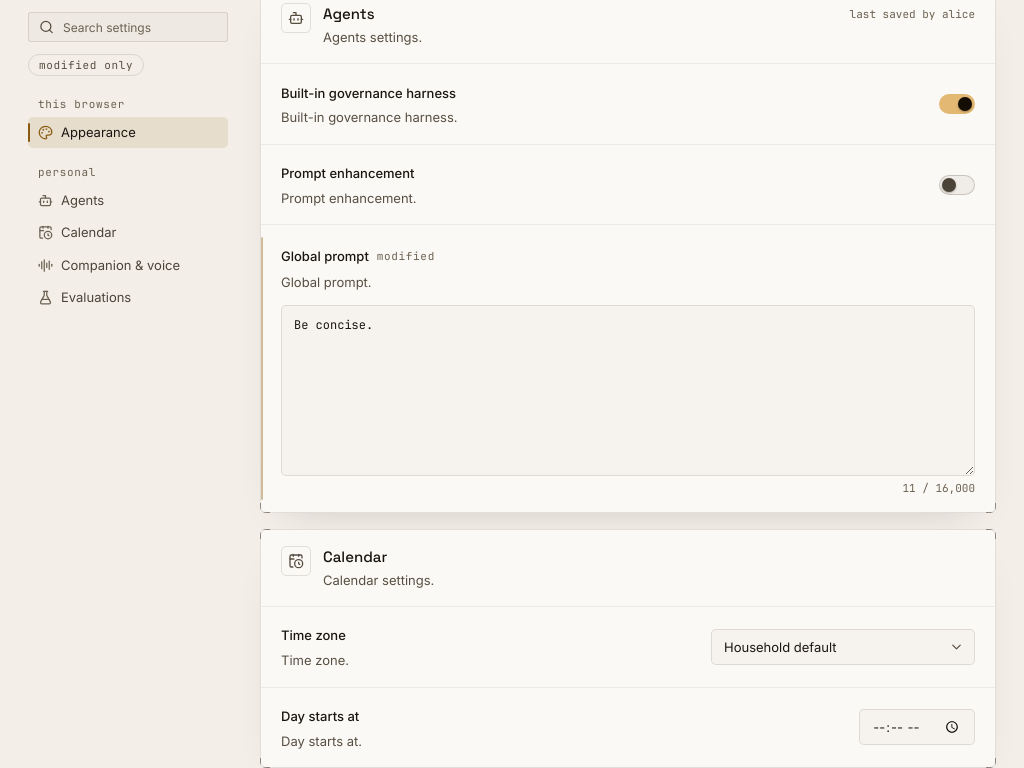
it: Settings editing › drops a change that is reverted by hand
The width and height of the screenshot is (1024, 768).
(page scrolled)
Replace the text in the text box labelled "Global prompt" with "Other.". click: (628, 390)
box: [281, 305, 975, 476]
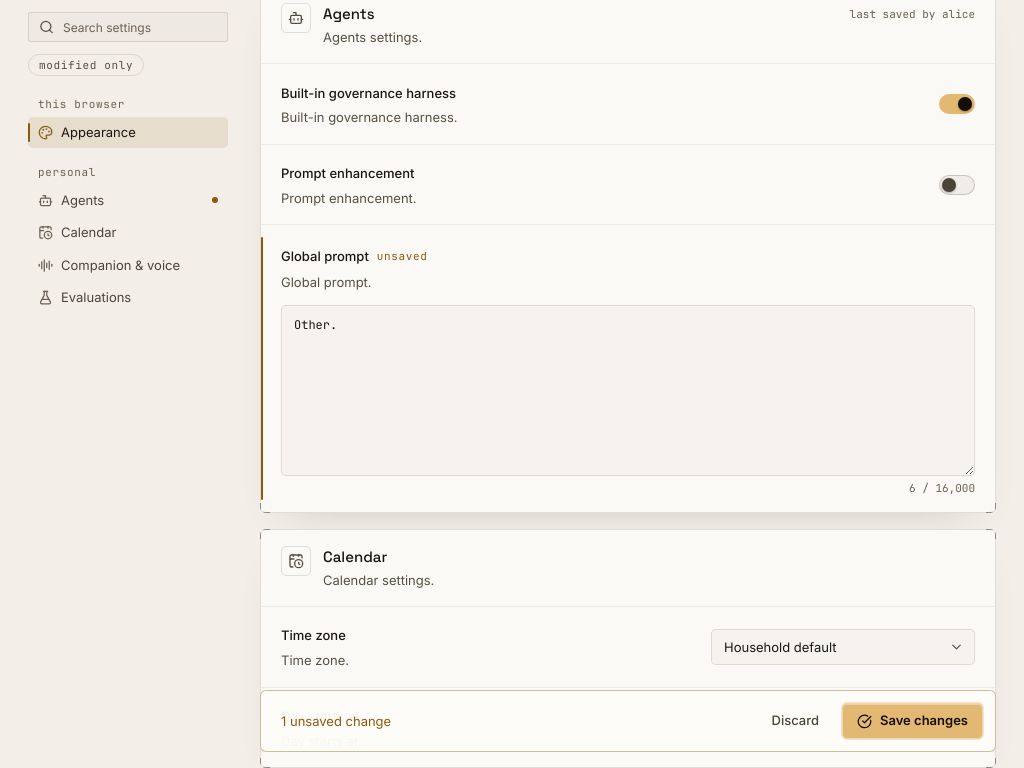
Replace the text in the text box labelled "Global prompt" with "Be concise.". click: (628, 390)
box: [281, 305, 975, 476]
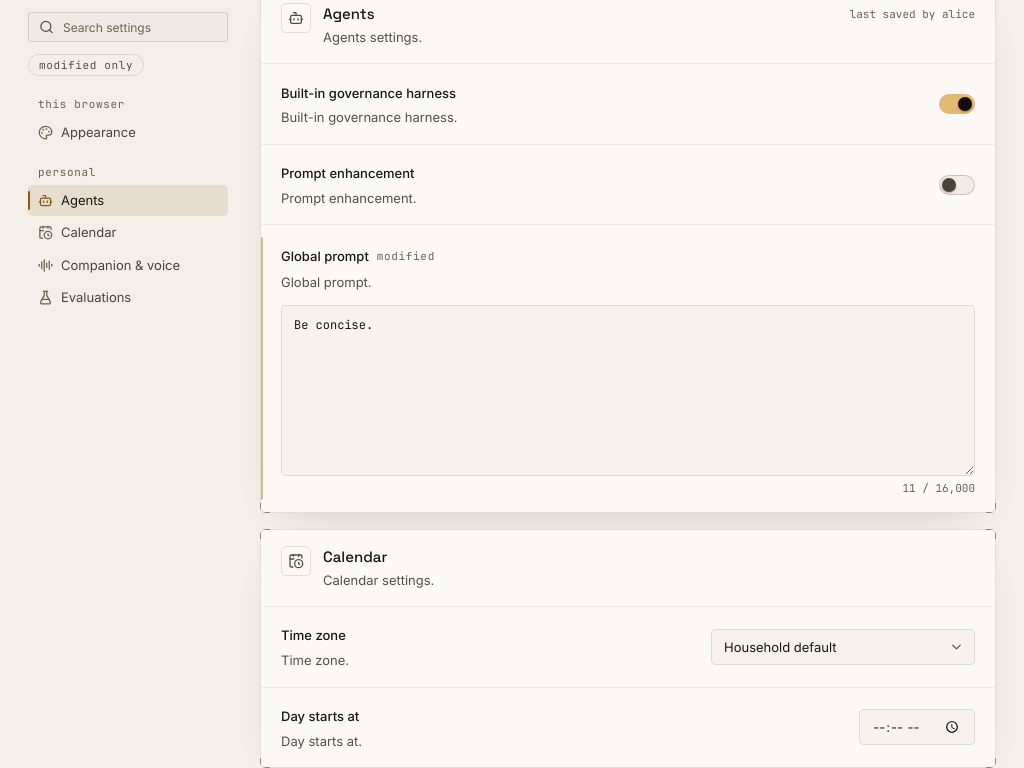
Expected: the button "Save changes" is gone
